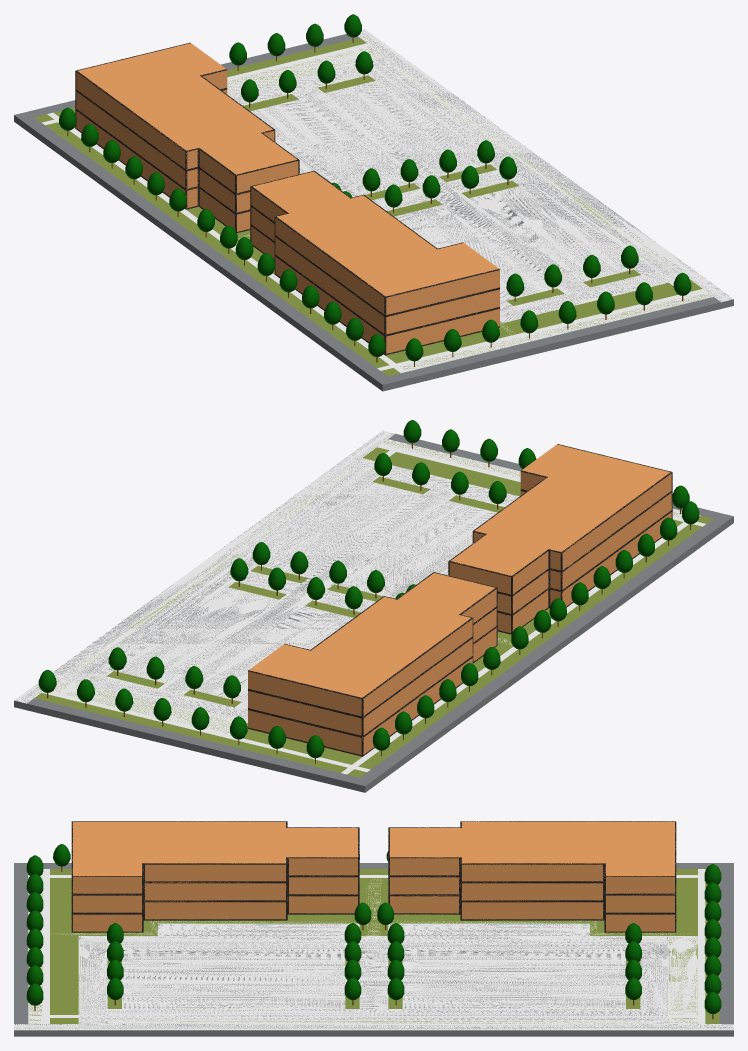
The model's file is 225_apartment_A.dae.
3 views of the same model, one above another, from view 1: azimuth 30°, elevation 25°; view 2: azimuth 150°, elevation 25°; view 3: azimuth 270°, elevation 25° (orthographic). The views are drawn at different scales.
Parts seen in each view (by area): view 1: group_1 (×10), group_5 (×9), group_4 (×6), group_3 (×5); view 2: group_1 (×10), group_5 (×9), group_4 (×6), group_3 (×5); view 3: group_1 (×11), group_5 (×10), group_4 (×8), group_3 (×8).
Part boxes in pixels (left/top/right/bottom): group_1 (×10): left=14, top=29, right=733, bottom=391; group_5 (×9): left=75, top=42, right=499, bottom=316; group_4 (×6): left=75, top=89, right=499, bottom=335; group_3 (×5): left=76, top=111, right=499, bottom=355; group_1 (×10): left=14, top=430, right=733, bottom=792; group_5 (×9): left=248, top=444, right=672, bottom=717; group_4 (×6): left=248, top=490, right=672, bottom=737; group_3 (×5): left=248, top=512, right=671, bottom=756; group_1 (×11): left=14, top=863, right=733, bottom=1036; group_5 (×10): left=71, top=821, right=676, bottom=894; group_4 (×8): left=71, top=876, right=676, bottom=913; group_3 (×8): left=71, top=895, right=676, bottom=932.
Bounding box in the file's own units: 53.62 × 97.5 × 9.46.
